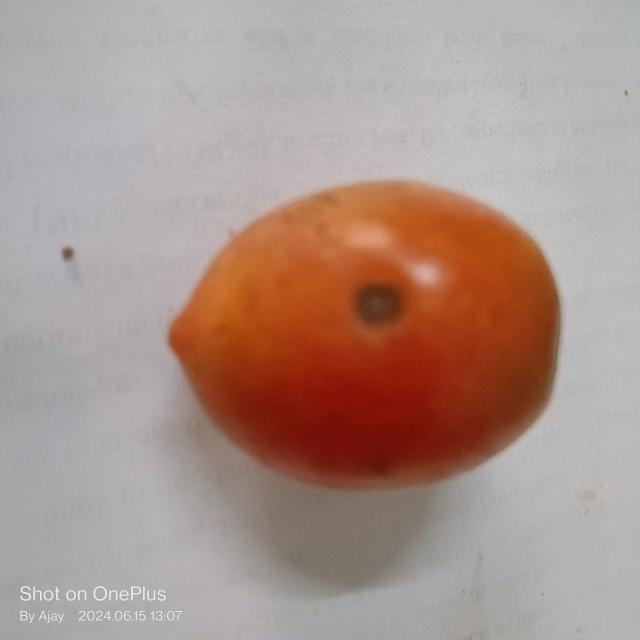Bacterial_Spot: (357, 280, 404, 328)
